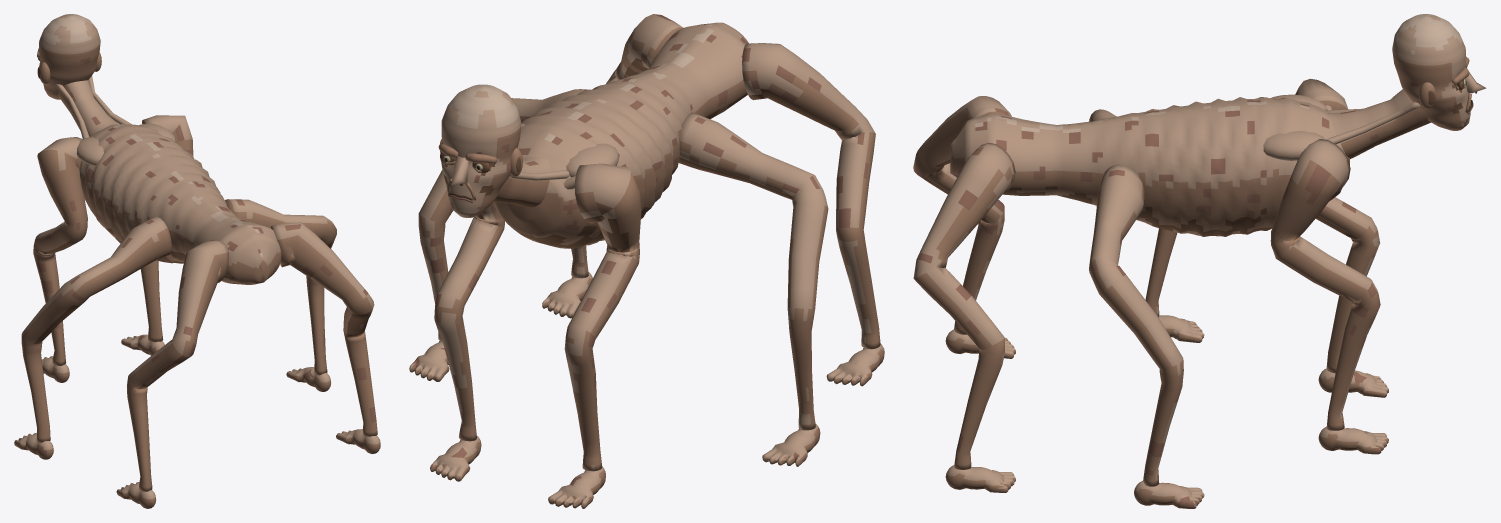
The picture shows the model from 3 angles, left to right: view 1: azimuth 30°, elevation 25°; view 2: azimuth 150°, elevation 25°; view 3: azimuth 270°, elevation 25°; orthographic projection. The views are drawn at different scales.
Bounding box in the file's own units: 1.51 × 1.55 × 1.99.
